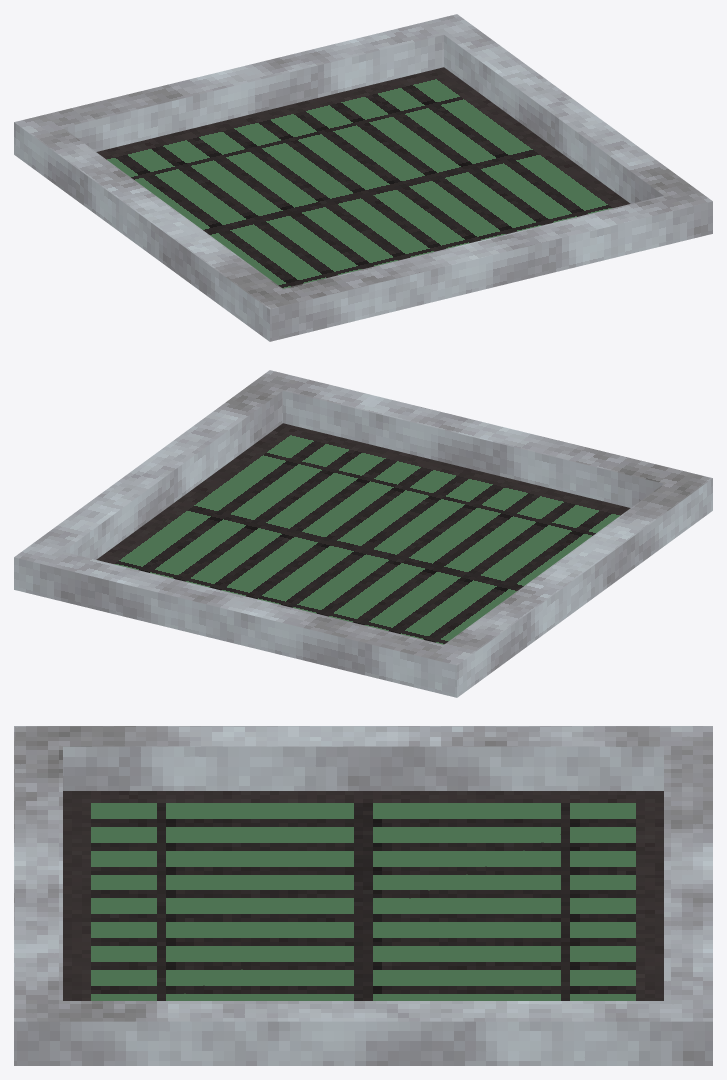
The model's file is scaffolding_floor.glb.
3 renders of one model, top to bottom at view 1: azimuth 30°, elevation 25°; view 2: azimuth 150°, elevation 25°; view 3: azimuth 270°, elevation 25°, orthographic. The views are drawn at different scales.
Parts seen in each view (by area): view 1: scaffolding-floor; view 2: scaffolding-floor; view 3: scaffolding-floor.
Part boxes in pixels (box(x1,y1,x2,y2)): scaffolding-floor: box(14, 14, 712, 341); scaffolding-floor: box(14, 370, 712, 697); scaffolding-floor: box(14, 726, 712, 1065).
Size of the model in its own units: 1 by 0.07 by 1.
2 materials, 2 textured.
